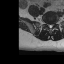CCS_stenosis: (49, 22, 51, 29)
LFS_severe_stenosis: (53, 21, 56, 26)
LLS_normal: (51, 22, 53, 28)
RFS_severe_stenosis: (45, 21, 47, 27)
RLS_normal: (47, 22, 49, 28)
